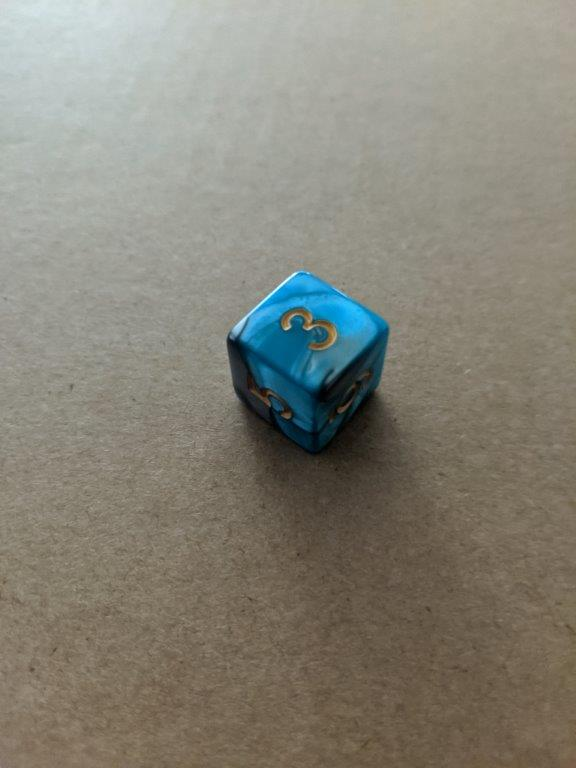d6-3: (224, 268, 390, 456)
